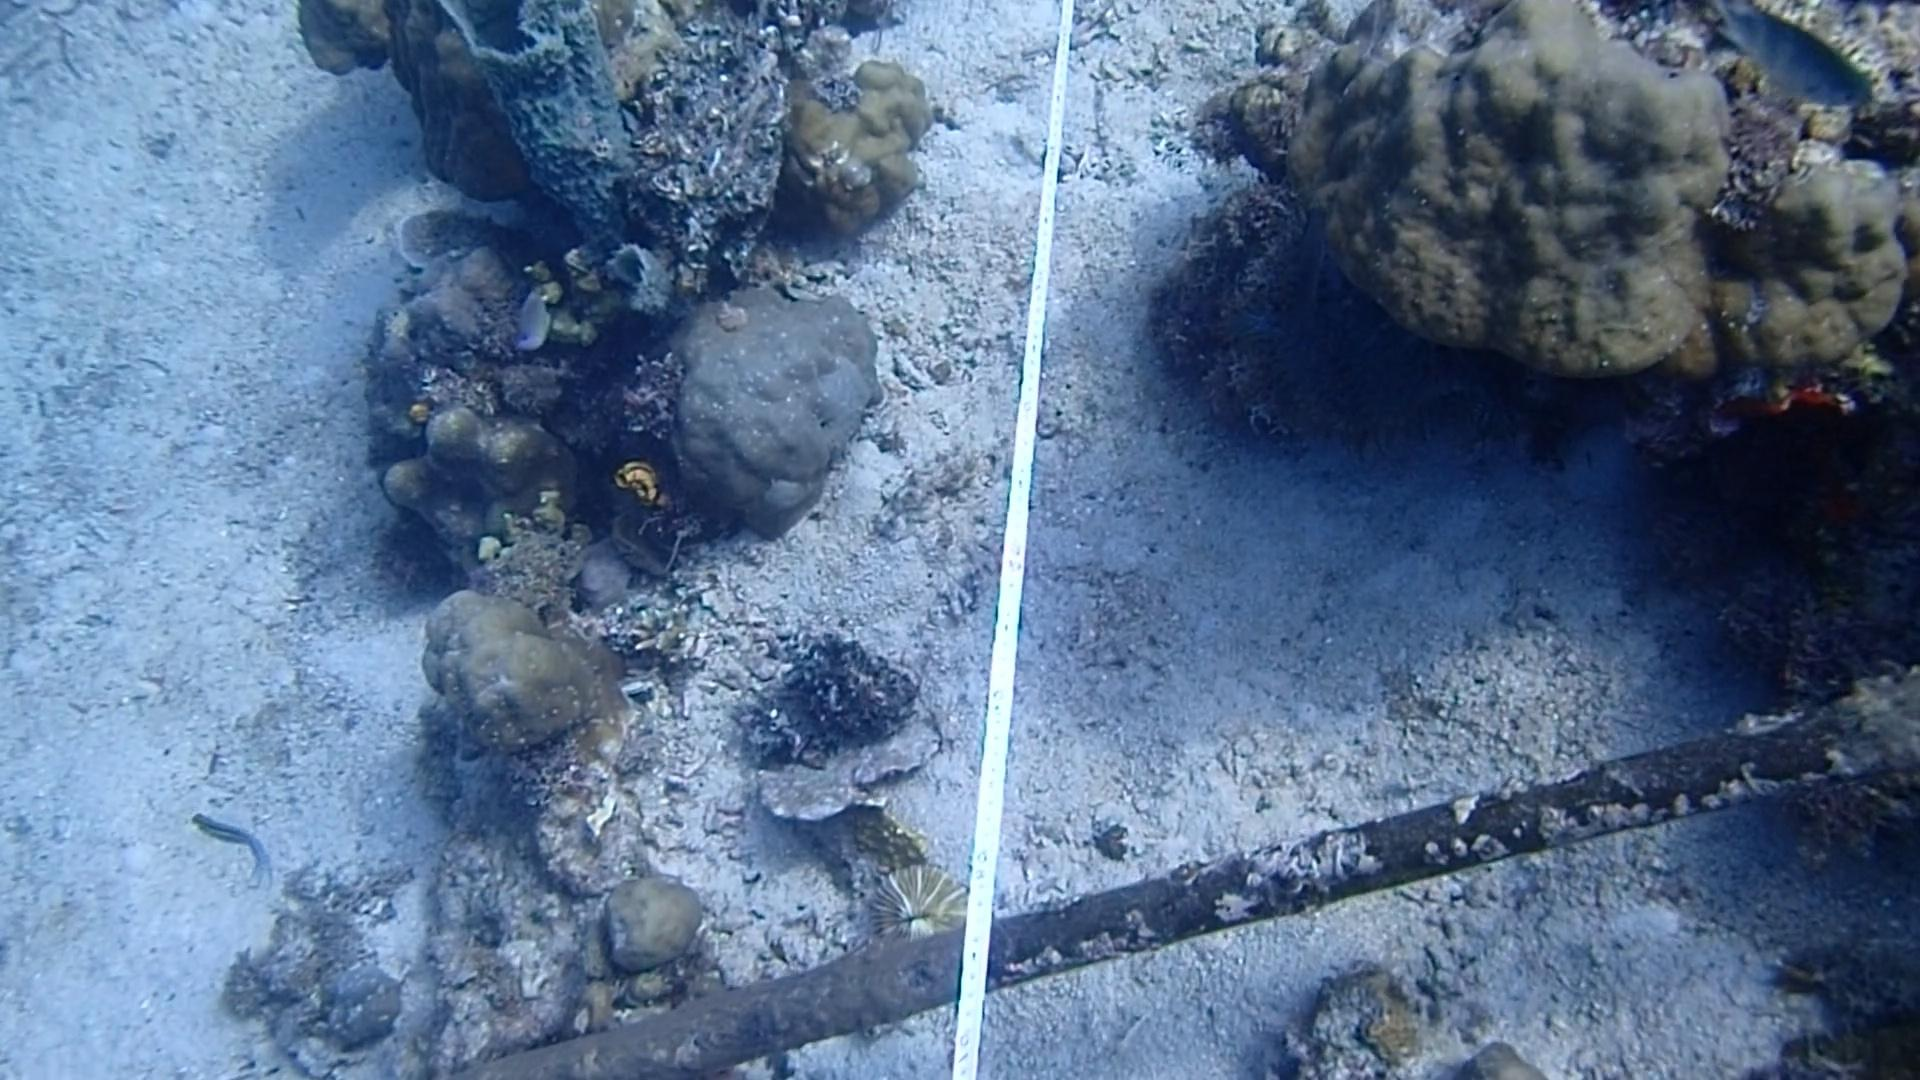Blue Fish: (1698, 0, 1887, 109)
Blue Nose Fish: (500, 286, 566, 364)
Dark Fish: (1273, 199, 1348, 322)
Striped Fish: (189, 803, 286, 889)
